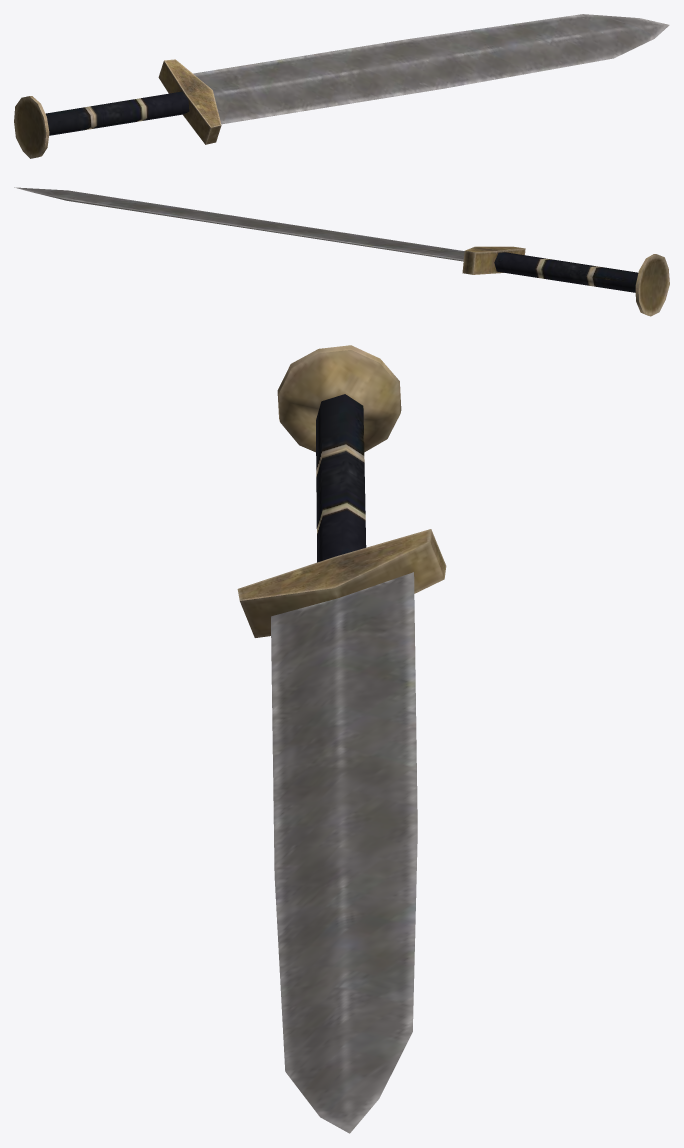
File: weapon-base.glb
3 views of the same model, one above another, from view 1: azimuth 30°, elevation 25°; view 2: azimuth 150°, elevation 25°; view 3: azimuth 270°, elevation 25° (orthographic). The views are drawn at different scales.
Size of the model in its own units: 1.43 by 0.1878 by 0.2016.
1 material, 1 textured.
